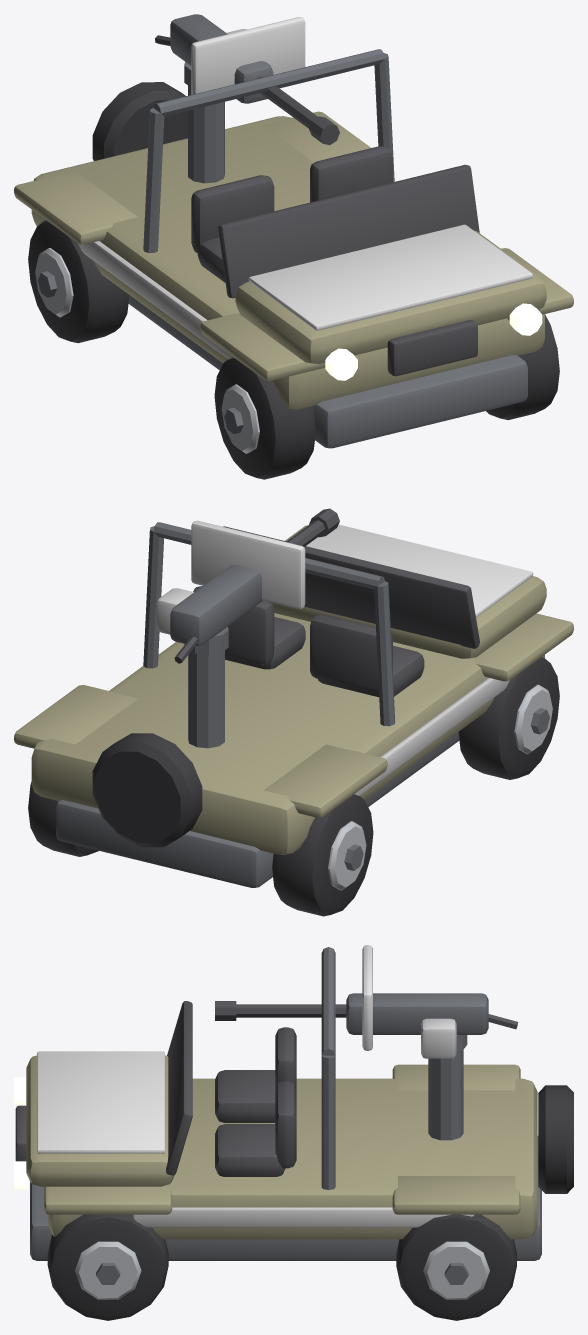
Rendered from jeep.glb.
The picture shows the model from 3 angles, top to bottom: view 1: azimuth 30°, elevation 25°; view 2: azimuth 150°, elevation 25°; view 3: azimuth 270°, elevation 25°; orthographic projection. The views are drawn at different scales.
Visible parts, largest first — view 1: jeep, turret; view 2: jeep, turret; view 3: jeep, turret.
Part boxes in pixels (x1,y1,x2,y2): jeep: (14,49,573,479); turret: (155,14,339,144); jeep: (14,522,573,916); turret: (157,508,339,663); jeep: (14,947,573,1320); turret: (215,945,518,1058).
Bounding box in the file's own units: 0.95 × 0.9 × 1.57.
